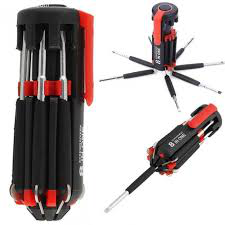screwdriver: (105, 99, 222, 220)
